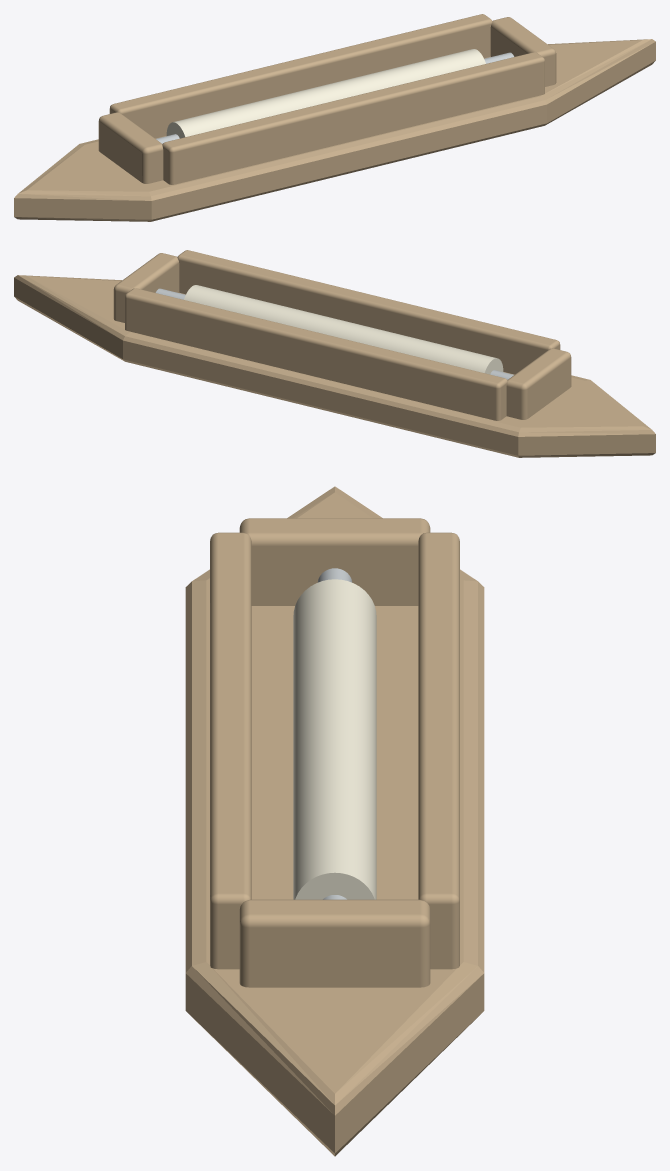
Rendered from textile-weaving-and-dye-workshop-boat-shuttle-aa54a8dc__29539.glb.
3 renders of one model, top to bottom at view 1: azimuth 30°, elevation 25°; view 2: azimuth 150°, elevation 25°; view 3: azimuth 270°, elevation 25°, orthographic. The views are drawn at different scales.
Visible parts, largest first — view 1: boat-shuttle; view 2: boat-shuttle; view 3: boat-shuttle.
Boxes of the visible parts, left/top/right/bottom form: boat-shuttle: left=14, top=14, right=655, bottom=221; boat-shuttle: left=14, top=250, right=655, bottom=457; boat-shuttle: left=185, top=486, right=484, bottom=1156.
Size of the model in its own units: 0.427 by 0.041 by 0.086.
